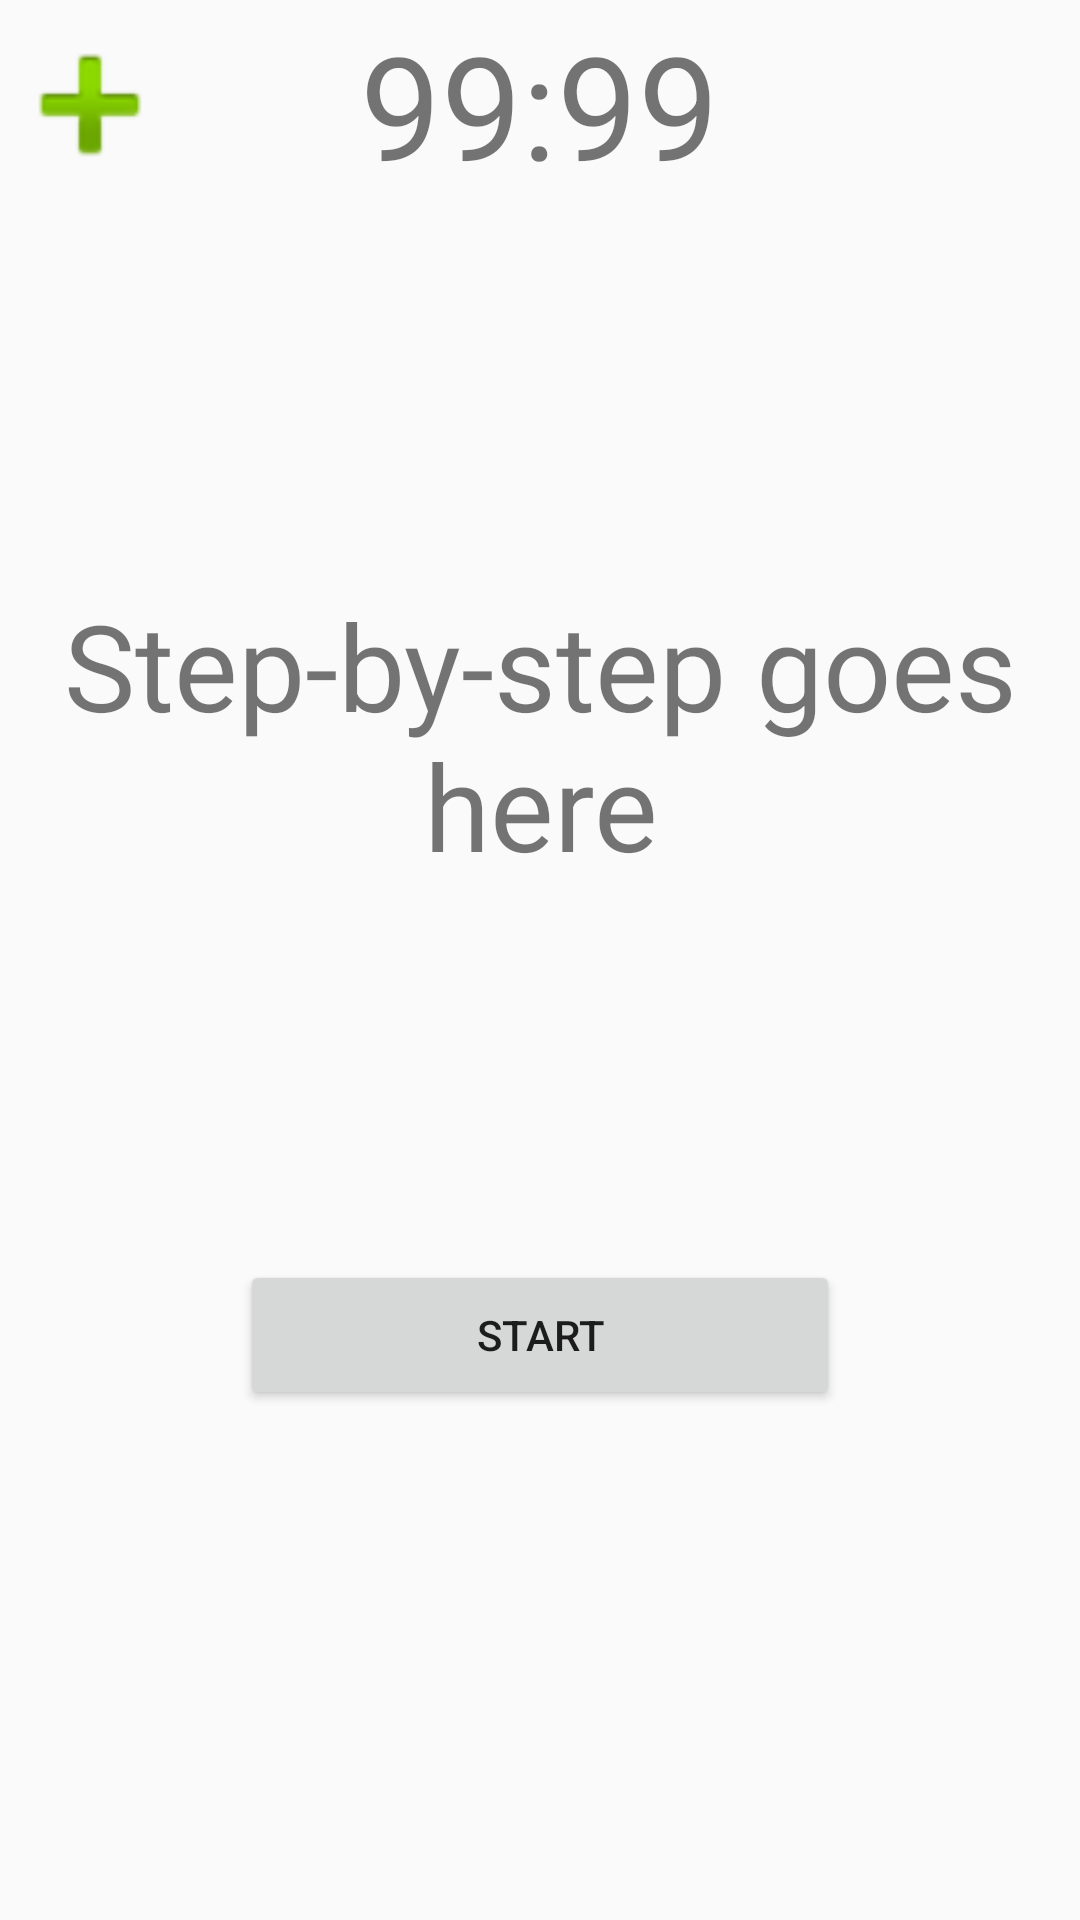

Where to tap for icons on this 1080px x 1920px app screen, as [x,y]:
add: [90,105]
